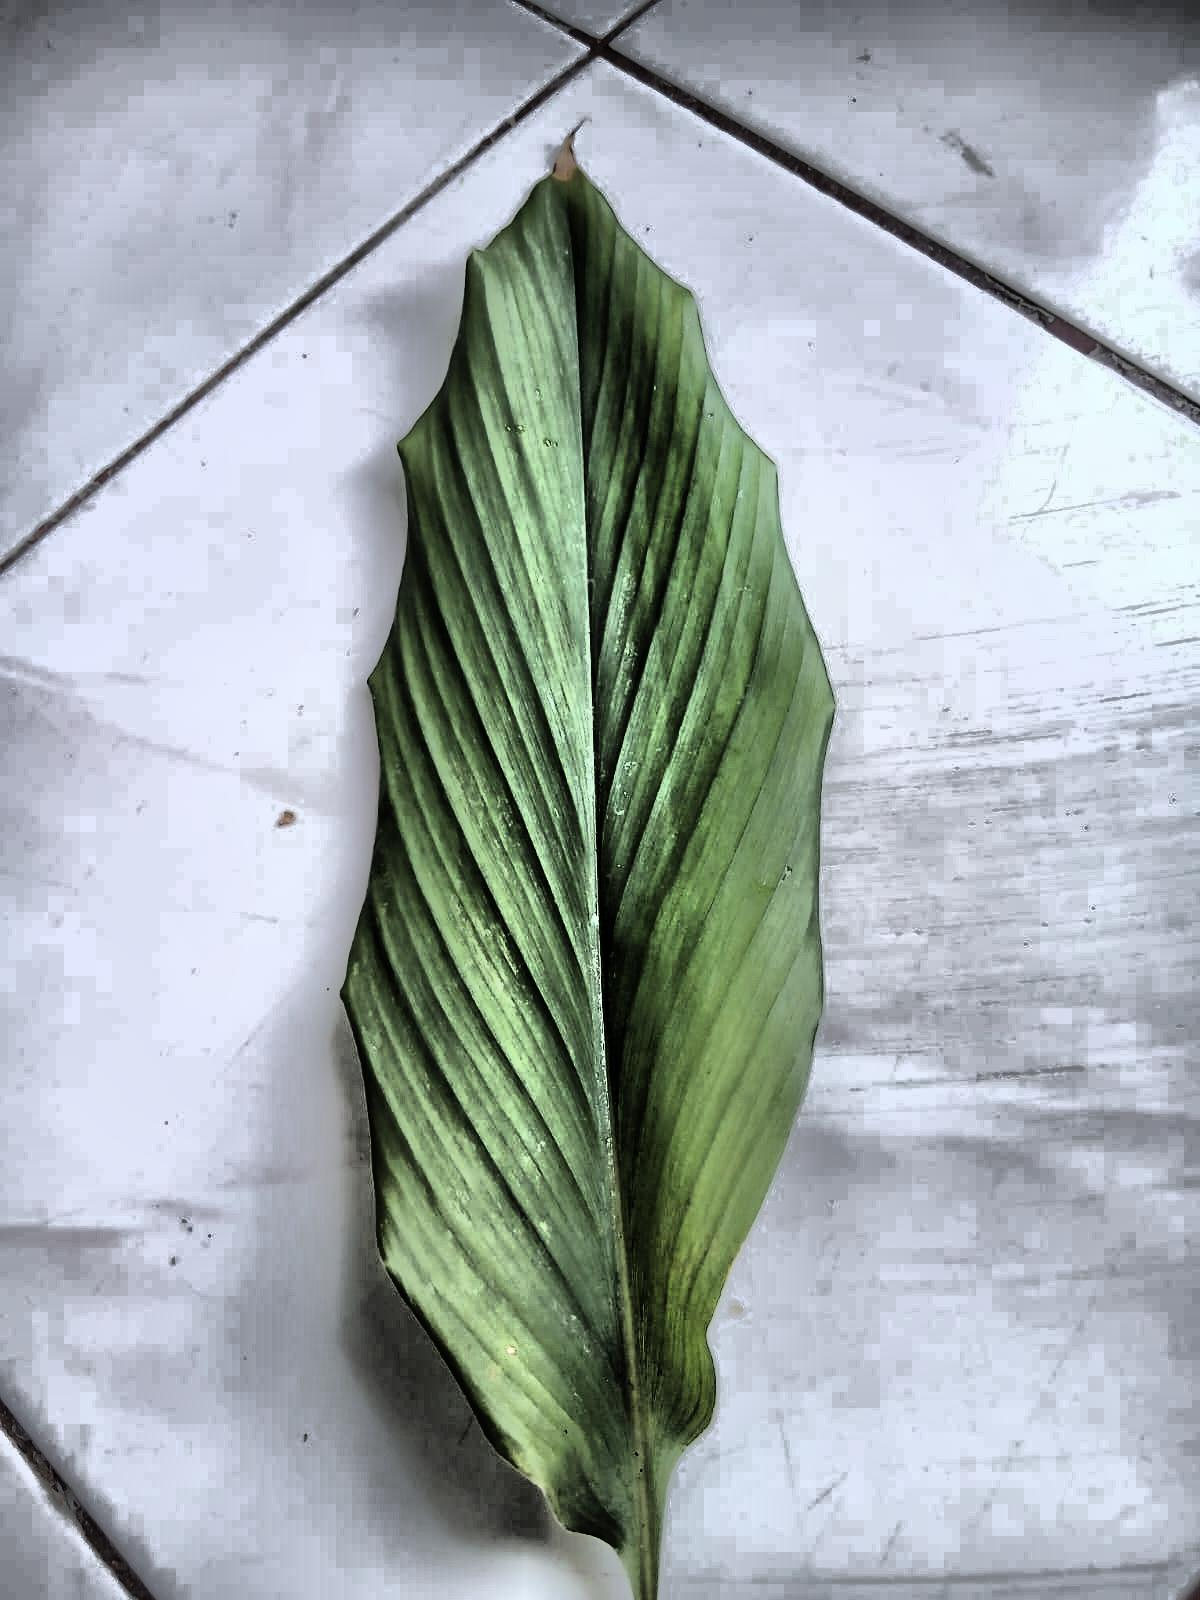daun kunyit: (343, 147, 833, 1599)
